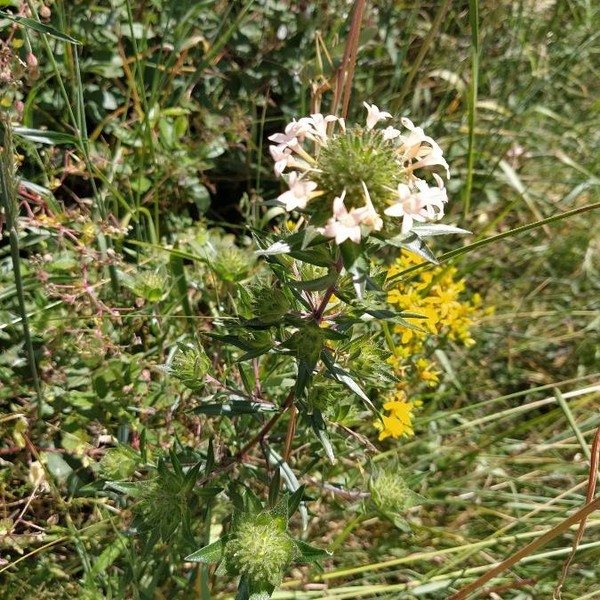obstacle: (142, 115, 482, 549)
